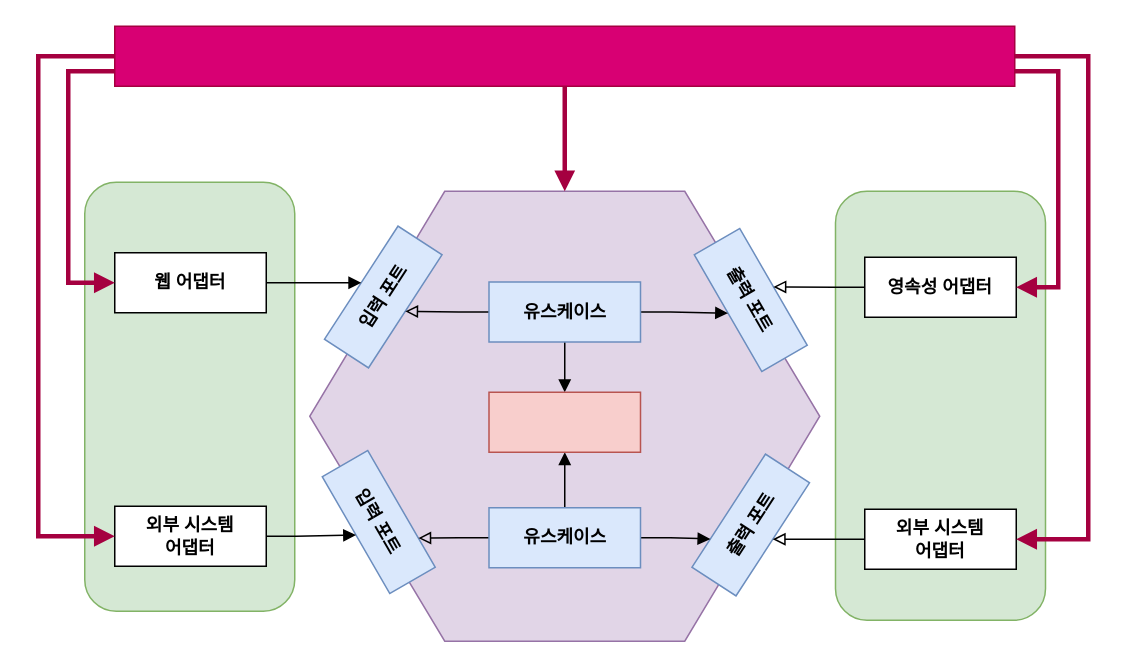
The diagram is 1128 pixels wide and 668 high, and some of its shapes have lost their labels. The shapes that lost their labels are listed below. From the top down, each one's box as (x1, y1, x2, y2) in pixels, then its label:
(113, 25, 1015, 86): 설정 컴포넌트
(83, 181, 295, 611): Driving adapter
(834, 190, 1046, 620): Driven adapter
(488, 391, 640, 452): 엔티티
